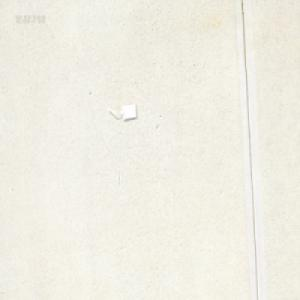LuggageTag: (105, 102, 137, 120)
